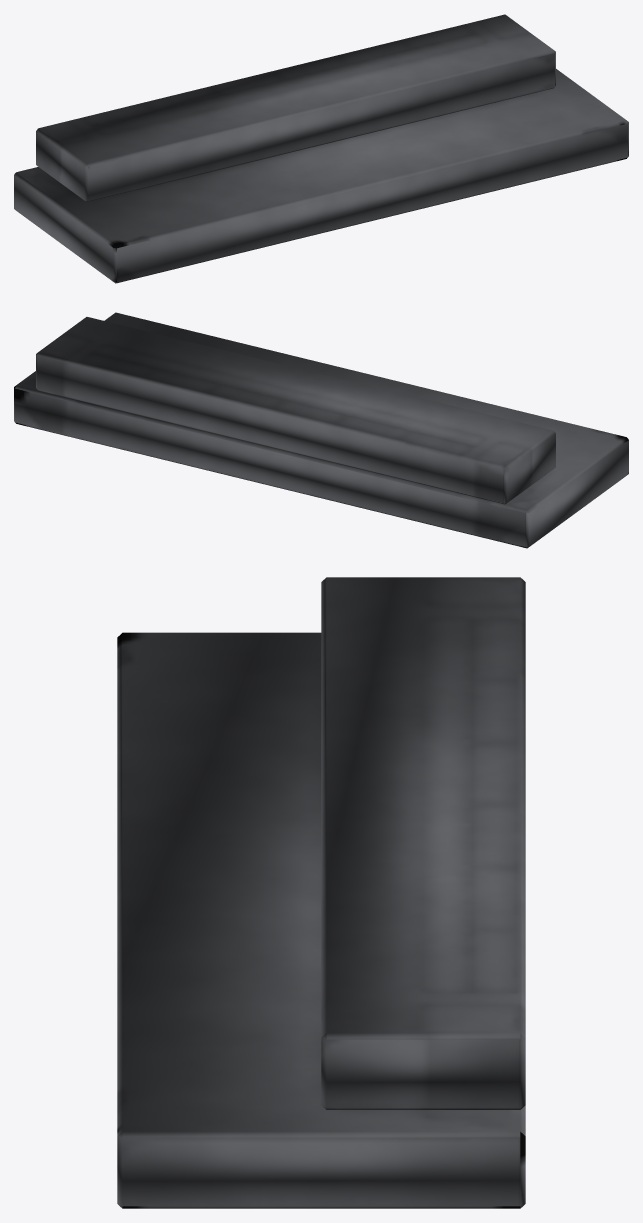
File: Puerta_Escalones.fbx
The picture shows the model from 3 angles, top to bottom: view 1: azimuth 30°, elevation 25°; view 2: azimuth 150°, elevation 25°; view 3: azimuth 270°, elevation 25°; orthographic projection. The views are drawn at different scales.
Visible parts, largest first — view 1: Puerta_Escalones; view 2: Puerta_Escalones; view 3: Puerta_Escalones.
Part boxes in pixels (bbox=[...]): Puerta_Escalones: bbox=[14, 14, 628, 283]; Puerta_Escalones: bbox=[14, 312, 628, 548]; Puerta_Escalones: bbox=[117, 577, 525, 1208].
Bounding box in the file's own units: 7 × 1 × 2.4.
